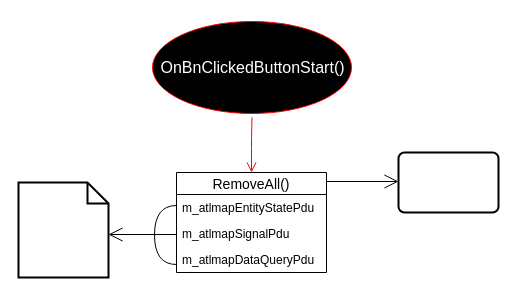
This 516x296 diagram has some shape labels left out. Each missing label, with the centre of its shape:
"PDU 등록용 컨테이너 CAtlMap" goes at (x=63, y=229).
"RemoveAll은 CAtlMap에 속한 메소드" goes at (x=448, y=182).
